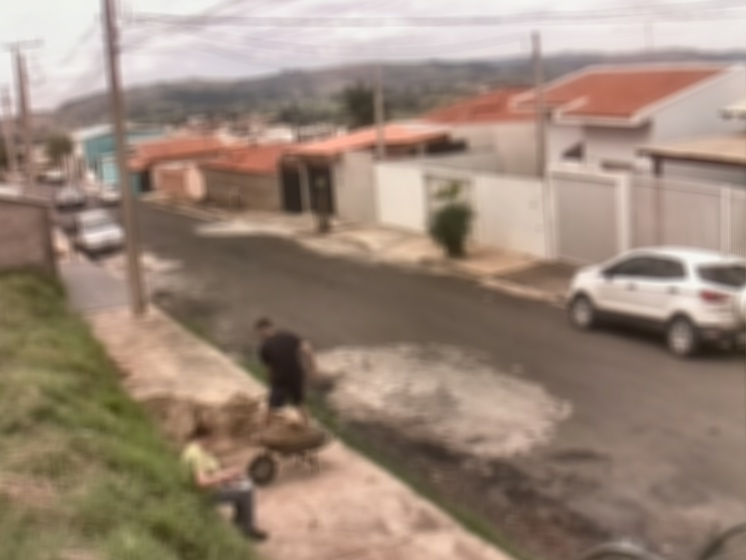person: (177, 419, 271, 544), (255, 318, 316, 425)
